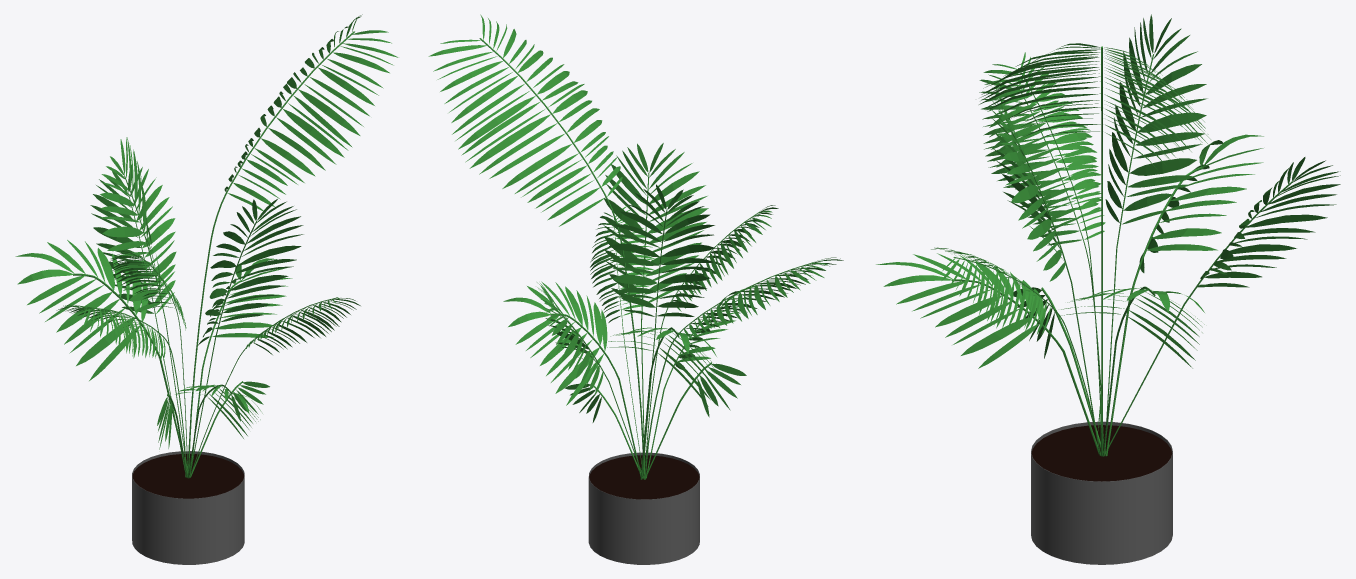
The model's file is areca.obj.
The picture shows the model from 3 angles, left to right: view 1: azimuth 30°, elevation 25°; view 2: azimuth 150°, elevation 25°; view 3: azimuth 270°, elevation 25°; orthographic projection. The views are drawn at different scales.
Parts seen in each view (by area): view 1: areca_Areca_palm_Cylinder.2601; view 2: areca_Areca_palm_Cylinder.2601; view 3: areca_Areca_palm_Cylinder.2601.
Part boxes in pixels (x1=…): areca_Areca_palm_Cylinder.2601: x1=15, y1=14, x2=398, y2=564; areca_Areca_palm_Cylinder.2601: x1=428, y1=14, x2=843, y2=564; areca_Areca_palm_Cylinder.2601: x1=876, y1=14, x2=1340, y2=564.
Size of the model in its own units: 0.1236 by 0.1589 by 0.1121.
